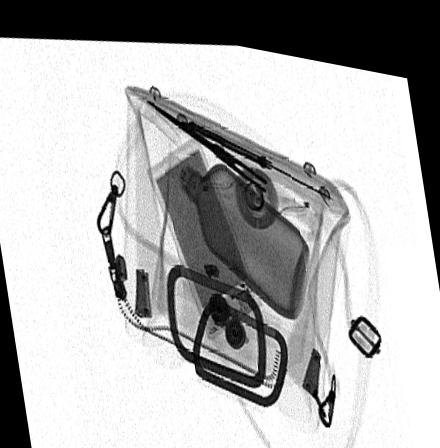Knife: (183, 102, 336, 190)
Powerbank: (147, 127, 261, 330)
Scissors: (143, 82, 323, 230)
